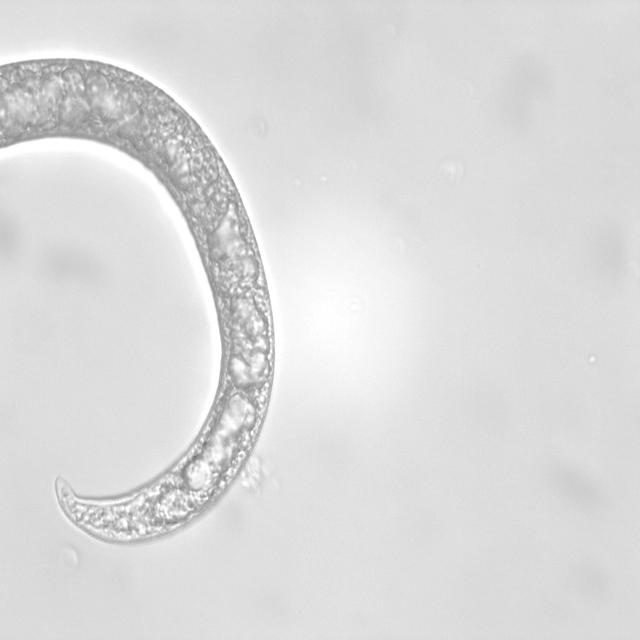Helicotylenchus: (0, 56, 278, 564)
